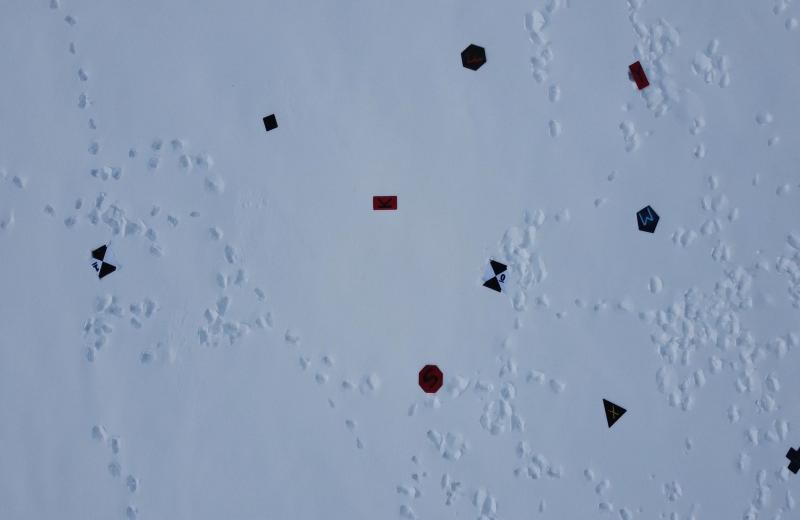Cross: (779, 441, 800, 479)
Hexagon: (458, 44, 492, 73)
Octagon: (416, 363, 444, 397)
Pentagon: (633, 202, 662, 235)
Rectangle: (367, 189, 401, 220), (626, 60, 650, 92)
Square: (260, 114, 279, 134)
Triangle: (599, 395, 629, 433)
